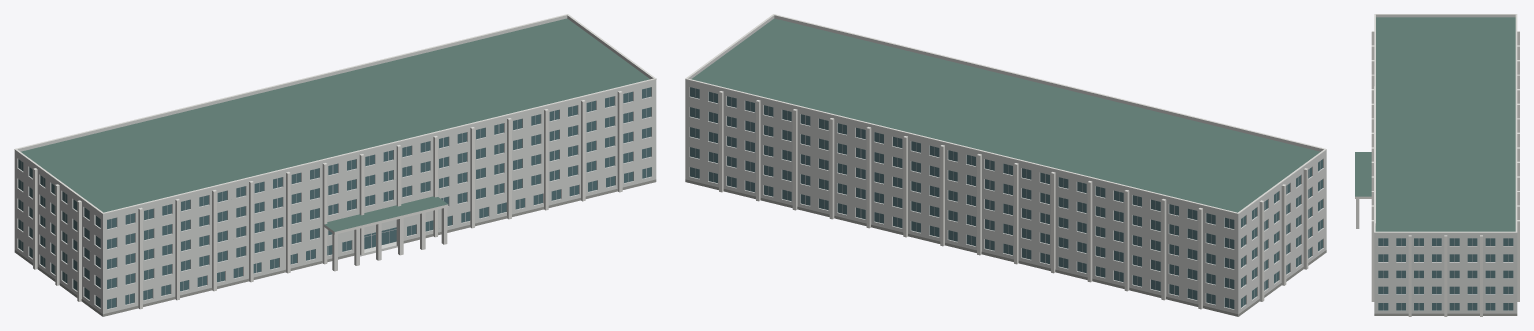
3 renders of one model, left to right at view 1: azimuth 30°, elevation 25°; view 2: azimuth 150°, elevation 25°; view 3: azimuth 270°, elevation 25°, orthographic. The views are drawn at different scales.
Visible parts, largest first — view 1: science__roof, science__wall, science__glass, science__trim, science__parapet, science__base, science__frame, science__column; view 2: science__roof, science__wall, science__glass, science__trim, science__parapet, science__base, science__frame; view 3: science__roof, science__wall, science__trim, science__glass, science__parapet, science__base, science__frame.
Boxes of the visible parts, x1=… form: science__roof: x1=21, y1=18, x2=649, y2=231; science__wall: x1=14, y1=82, x2=656, y2=316; science__glass: x1=18, y1=87, x2=651, y2=309; science__trim: x1=14, y1=14, x2=656, y2=309; science__parapet: x1=14, y1=15, x2=656, y2=216; science__base: x1=14, y1=179, x2=656, y2=316; science__frame: x1=21, y1=88, x2=646, y2=307; science__column: x1=332, y1=207, x2=447, y2=271; science__roof: x1=691, y1=18, x2=1320, y2=212; science__wall: x1=685, y1=82, x2=1326, y2=316; science__glass: x1=690, y1=87, x2=1322, y2=308; science__trim: x1=685, y1=14, x2=1326, y2=309; science__parapet: x1=685, y1=15, x2=1326, y2=216; science__base: x1=685, y1=179, x2=1326, y2=316; science__frame: x1=695, y1=88, x2=1320, y2=308; science__roof: x1=1355, y1=17, x2=1515, y2=231; science__wall: x1=1374, y1=235, x2=1517, y2=313; science__trim: x1=1355, y1=14, x2=1519, y2=316; science__glass: x1=1378, y1=238, x2=1513, y2=310; science__parapet: x1=1374, y1=14, x2=1517, y2=234; science__base: x1=1374, y1=313, x2=1517, y2=315; science__frame: x1=1383, y1=238, x2=1508, y2=310.
Size of the model in its own units: 108 by 19.5 by 34.16.
